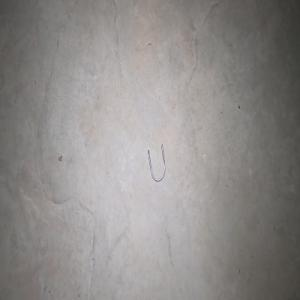ClampPart: (147, 143, 165, 182)
